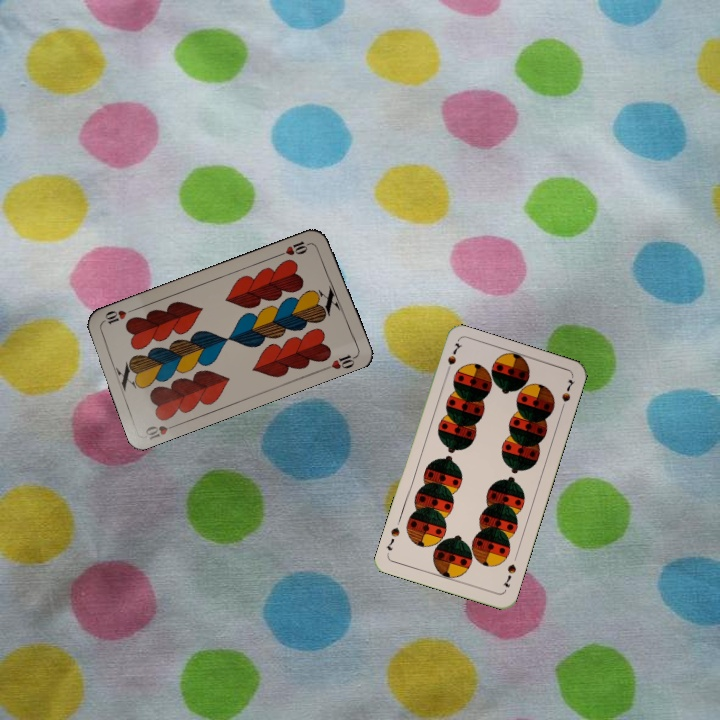H10: (141, 420, 181, 442), (275, 237, 315, 258)
S7: (442, 339, 464, 378), (499, 560, 519, 590)
